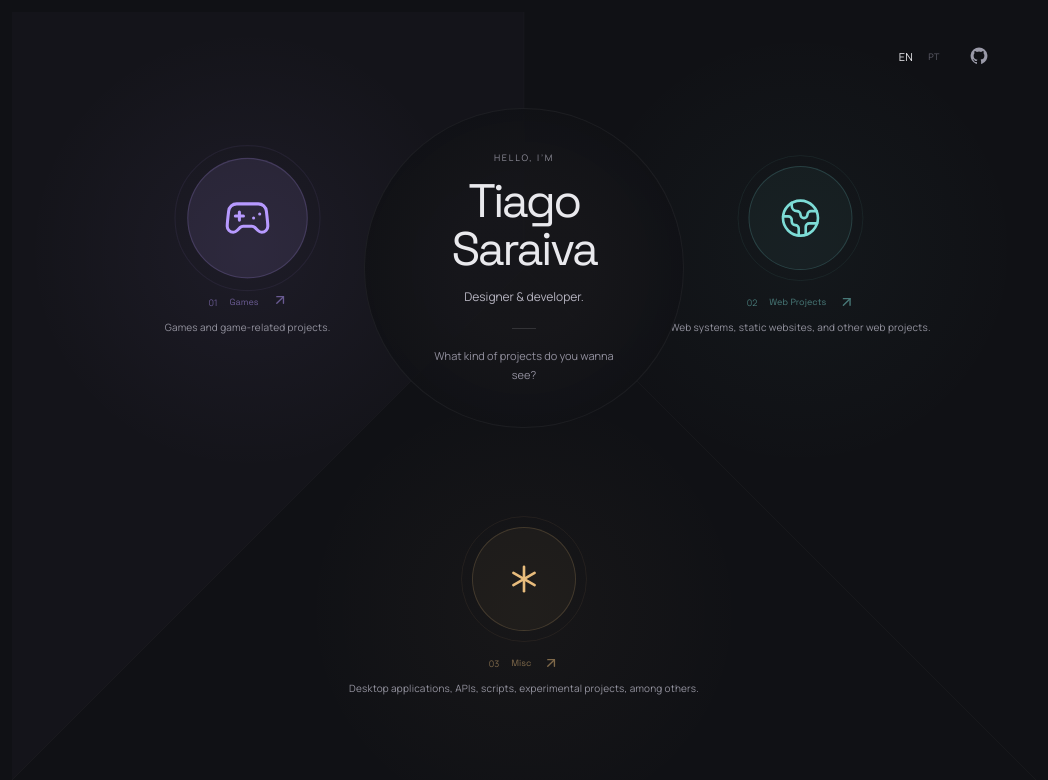
it: language › starts in English and translates the landing page without changing the URL
This screenshot has width=1048, height=780.
expect the heading "Tiago Saraiva" is shown: met, box [452,177,596,274]
Click the button with aria-label "Change language to Portuguese": (920, 56) [896,40,944,72]
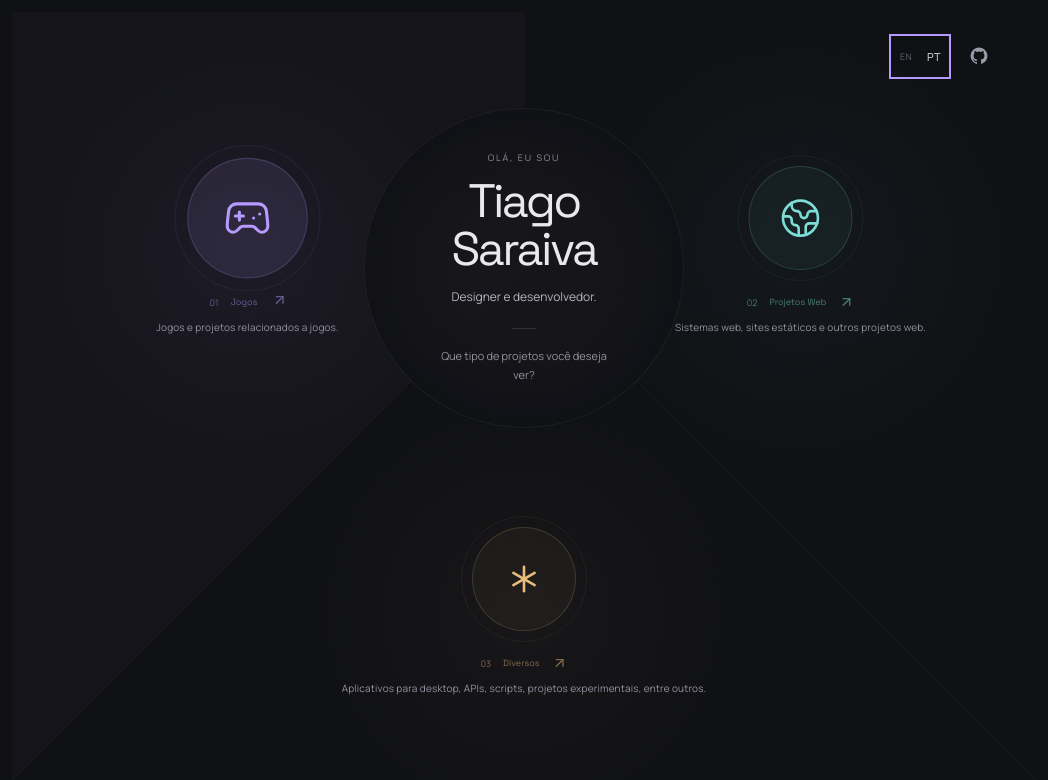
expect the heading "Tiago Saraiva" is shown: met, box [452,177,596,274]
expect the text "Que tipo de projetos você deseja ver?" is shown: met, box [441,348,607,382]
